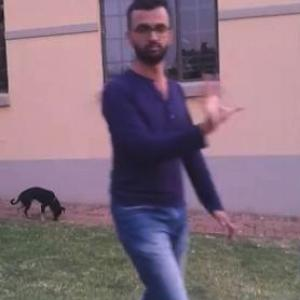follow_hand: (191, 66, 245, 126)
